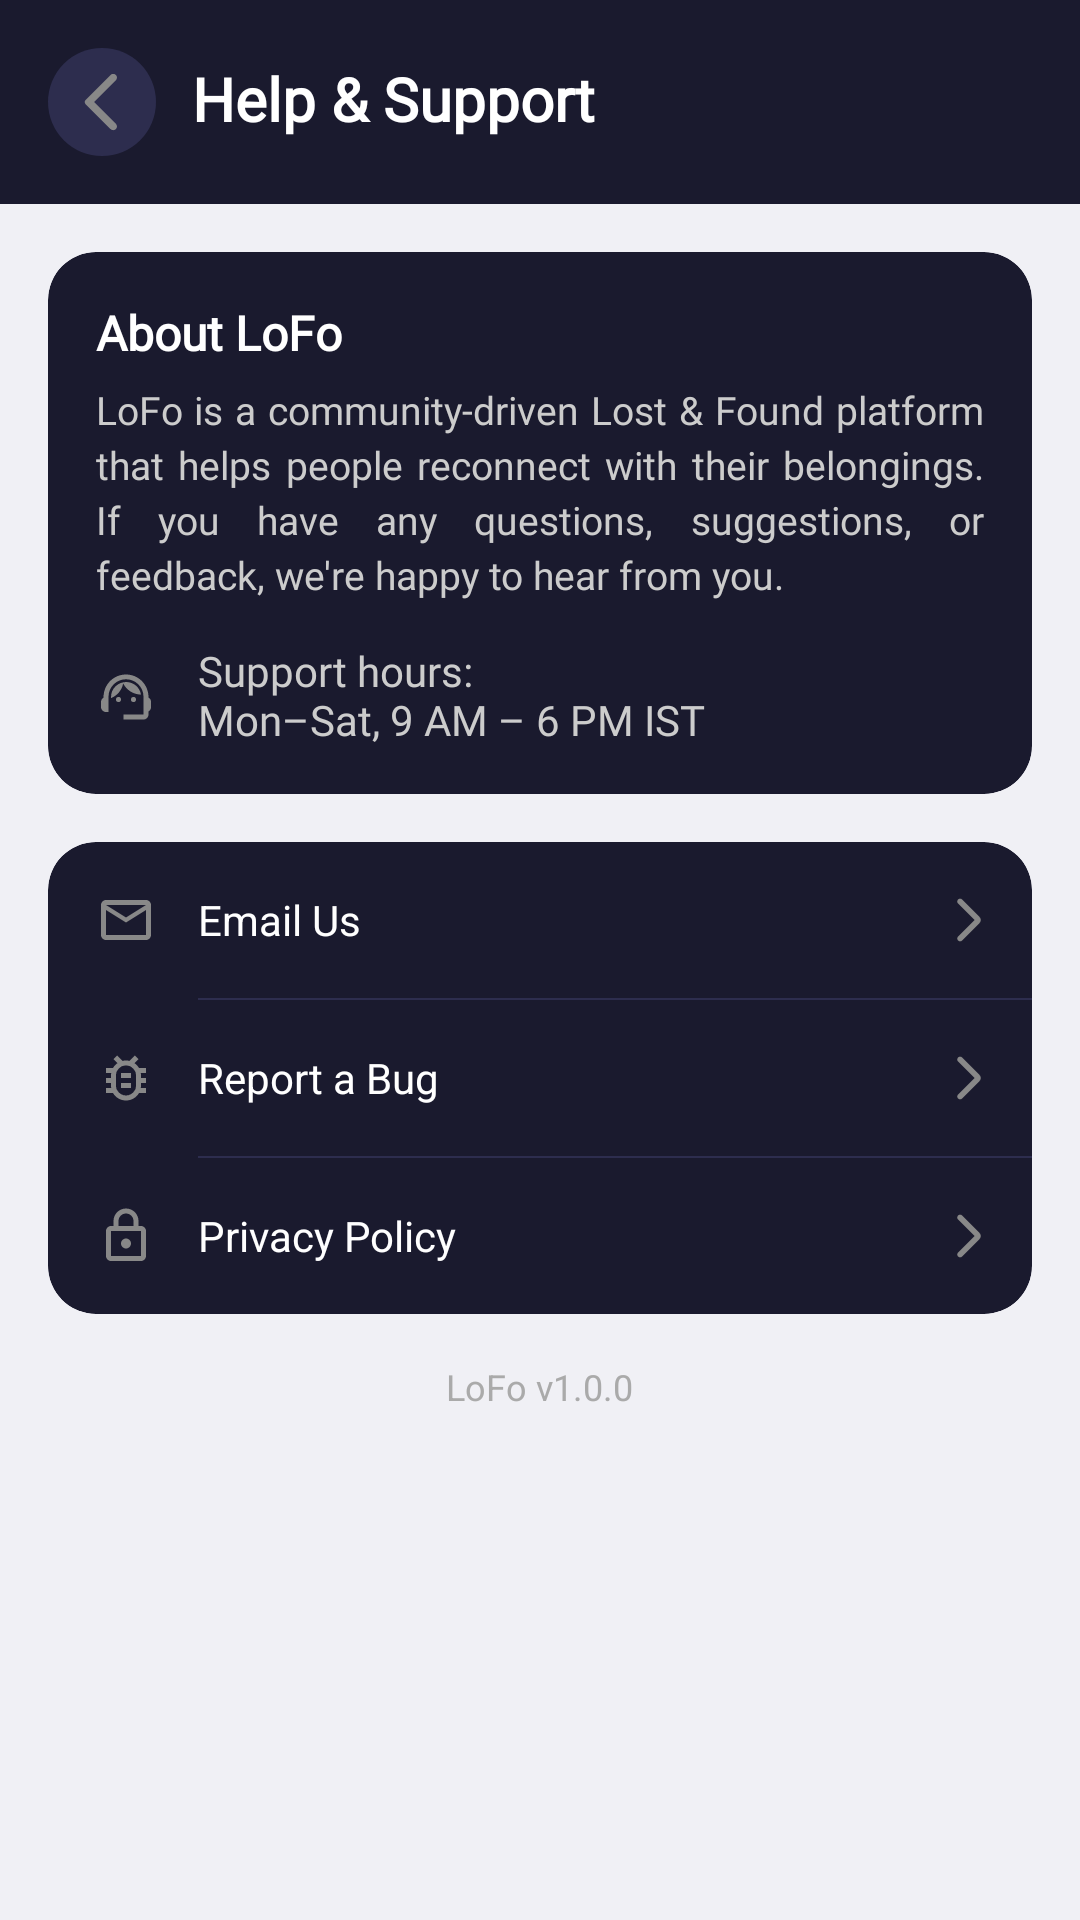

Icons on this 1080 x 1920 Android screen, each with the point to tap as point (x, y):
chevron right: point (969, 920), point (969, 1078), point (969, 1236)
Go back: point (102, 102)
lock: point (126, 1234)
